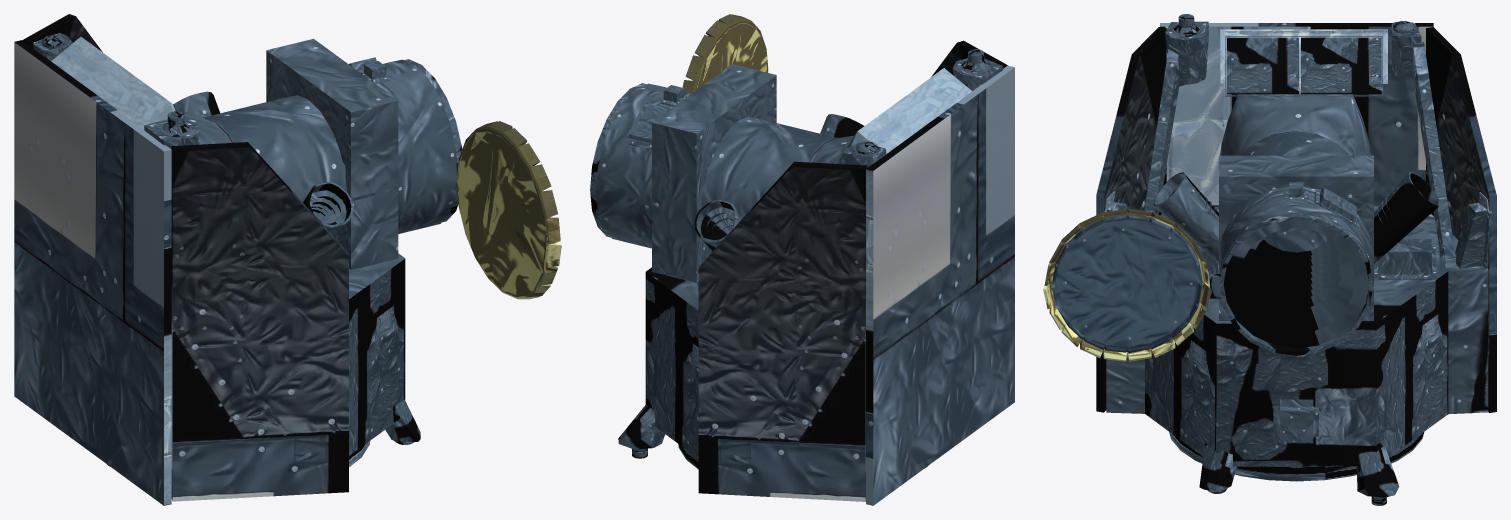
The model's file is cheops.glb.
3 views of the same model, side by side, from view 1: azimuth 30°, elevation 25°; view 2: azimuth 150°, elevation 25°; view 3: azimuth 270°, elevation 25° (orthographic). The views are drawn at different scales.
Visible parts, largest first — view 1: solar, tele, bus; view 2: solar, tele, bus; view 3: bus, tele, solar.
Part boxes in pixels (<box>): solar: <box>14,14,348,505</box>; tele: <box>173,38,561,299</box>; bus: <box>33,33,420,467</box>; solar: <box>698,40,1014,505</box>; tele: <box>590,14,863,282</box>; bus: <box>618,49,1002,469</box>; bus: <box>1104,14,1491,505</box>; tele: <box>1043,131,1439,361</box>; solar: <box>1096,23,1496,412</box>.
Bounding box in the file's own units: 1301 × 1548 × 1677.
Materials: 3 (3 with a texture image).
